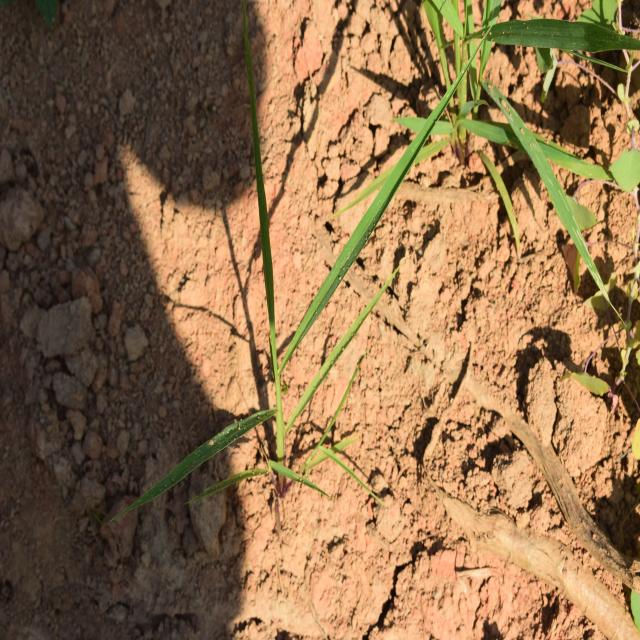green_foxtail: (152, 112, 398, 534), (422, 0, 609, 255)
